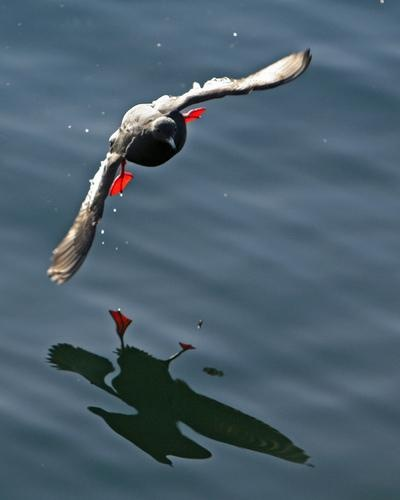bird: (43, 44, 314, 295)
